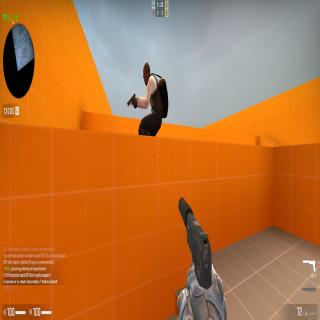T-Body: (126, 62, 169, 136)
T-Head: (142, 61, 150, 86)
